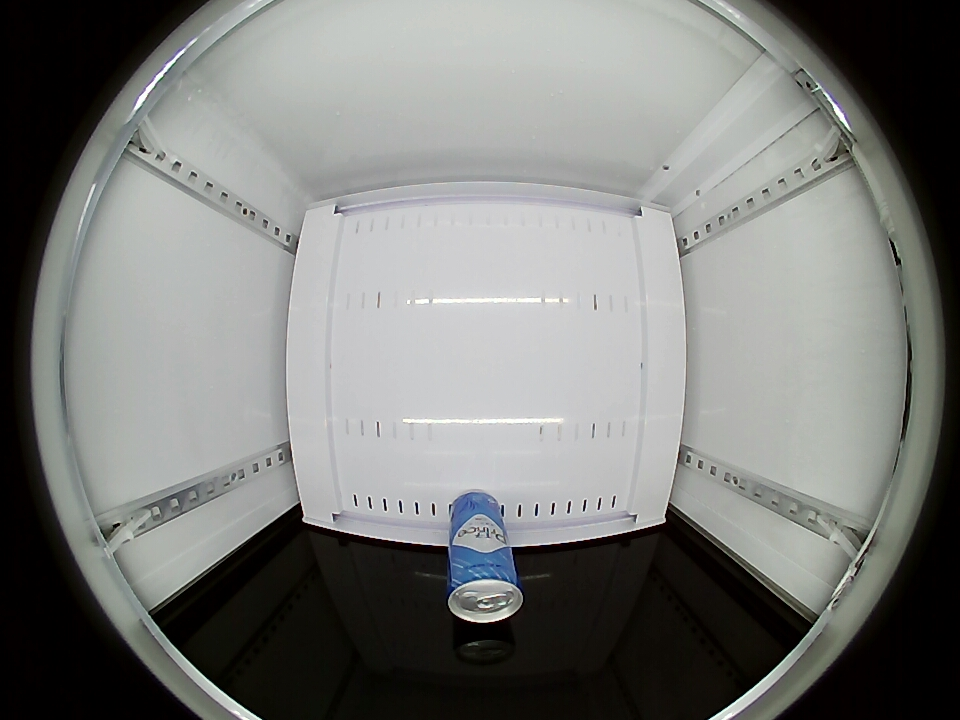qingdaowangzi-2: (447, 559, 524, 624)
